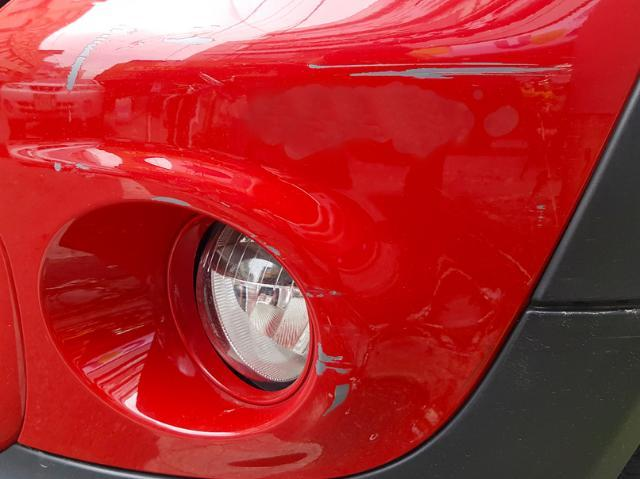Bumper: (11, 3, 606, 479)
